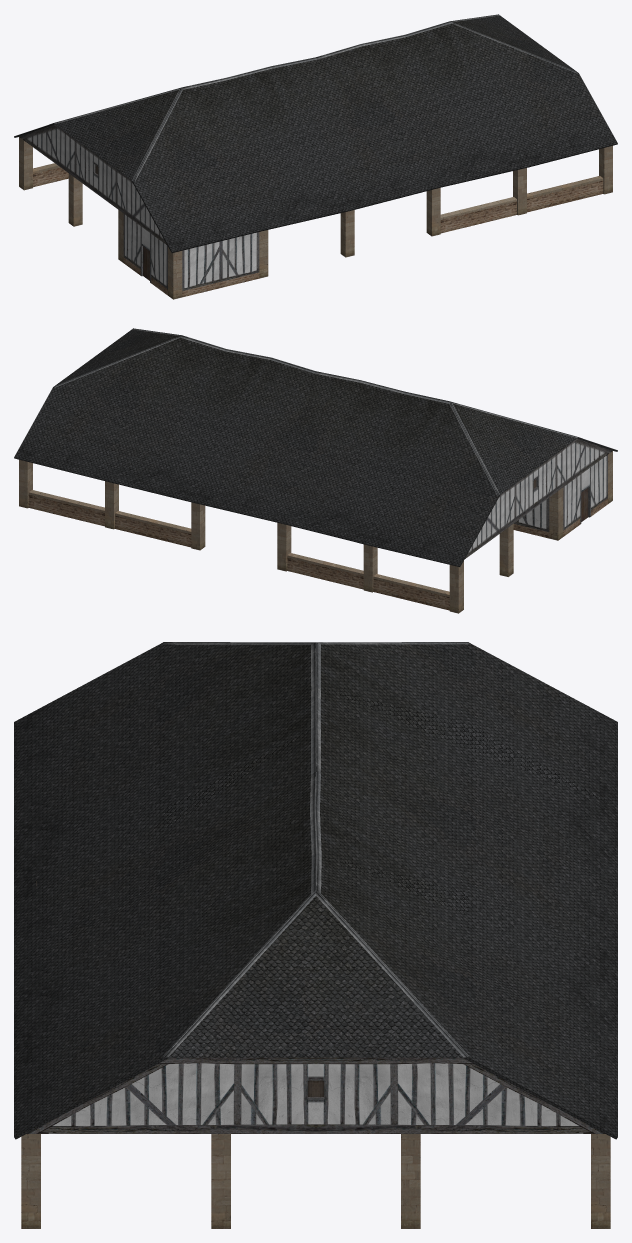
The picture shows the model from 3 angles, top to bottom: view 1: azimuth 30°, elevation 25°; view 2: azimuth 150°, elevation 25°; view 3: azimuth 270°, elevation 25°; orthographic projection. The views are drawn at different scales.
Visible parts, largest first — view 1: Medieval Hall; view 2: Medieval Hall; view 3: Medieval Hall.
Part boxes in pixels (<box>): Medieval Hall: <box>14,14,617,299</box>; Medieval Hall: <box>14,328,617,613</box>; Medieval Hall: <box>14,642,617,1228</box>.
Size of the model in its own units: 2953 by 858 by 1816.
Materials: 1 (1 with a texture image).
